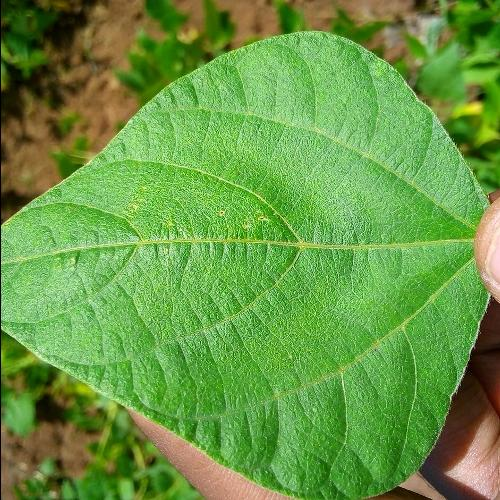sehat: (45, 37, 484, 438)
